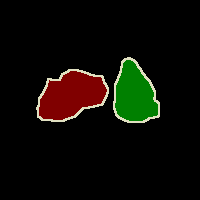shoe: (37, 70, 108, 121), (114, 58, 159, 122)
